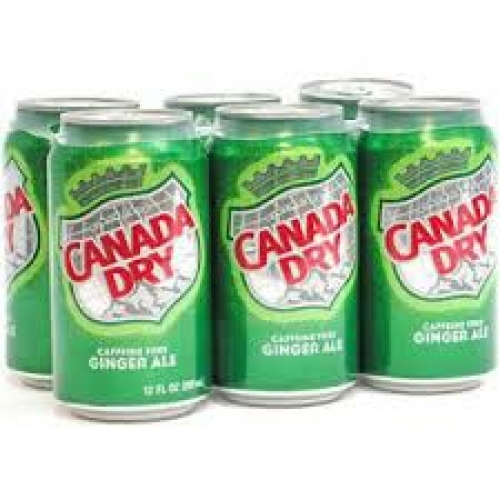Lata: (41, 107, 217, 435)
